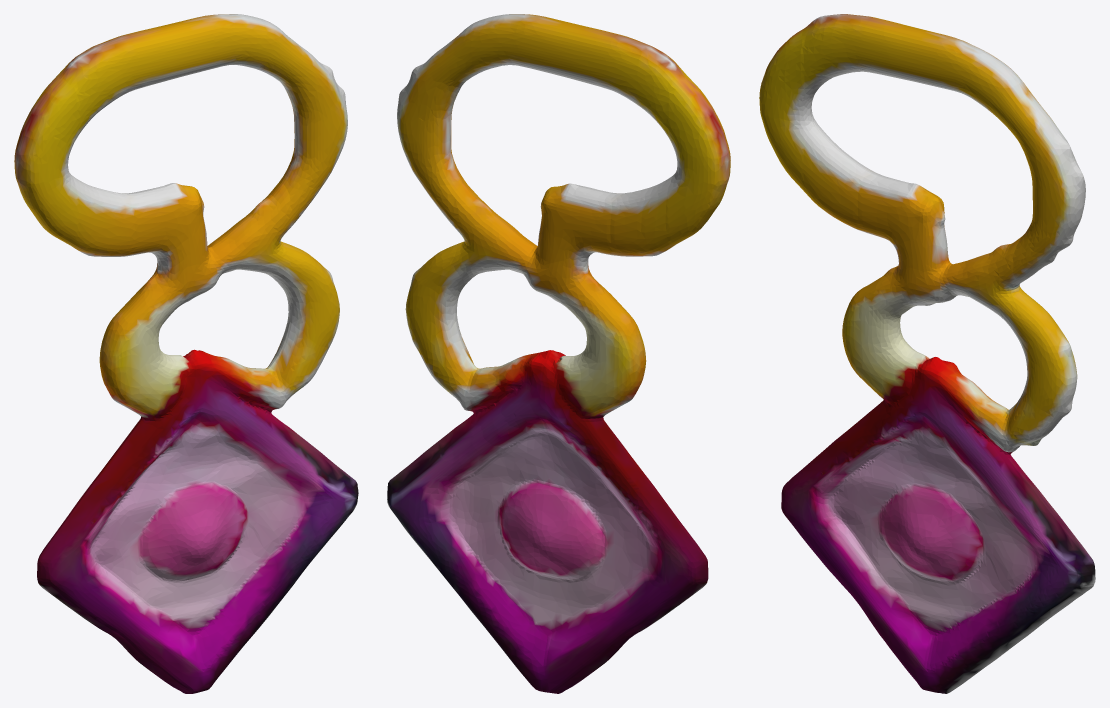
Rendered from amulet_magi.glb.
3 renders of one model, left to right at view 1: azimuth 30°, elevation 25°; view 2: azimuth 150°, elevation 25°; view 3: azimuth 330°, elevation 25°, orthographic. The views are drawn at different scales.
Parts seen in each view (by area): view 1: geometry_0; view 2: geometry_0; view 3: geometry_0.
Boxes of the visible parts, x1,y1,x2,y2 form: geometry_0: (14,14,358,693); geometry_0: (387,14,730,693); geometry_0: (759,14,1095,693).
Bounding box in the file's own units: 0.4062 × 0.7672 × 0.0534.
